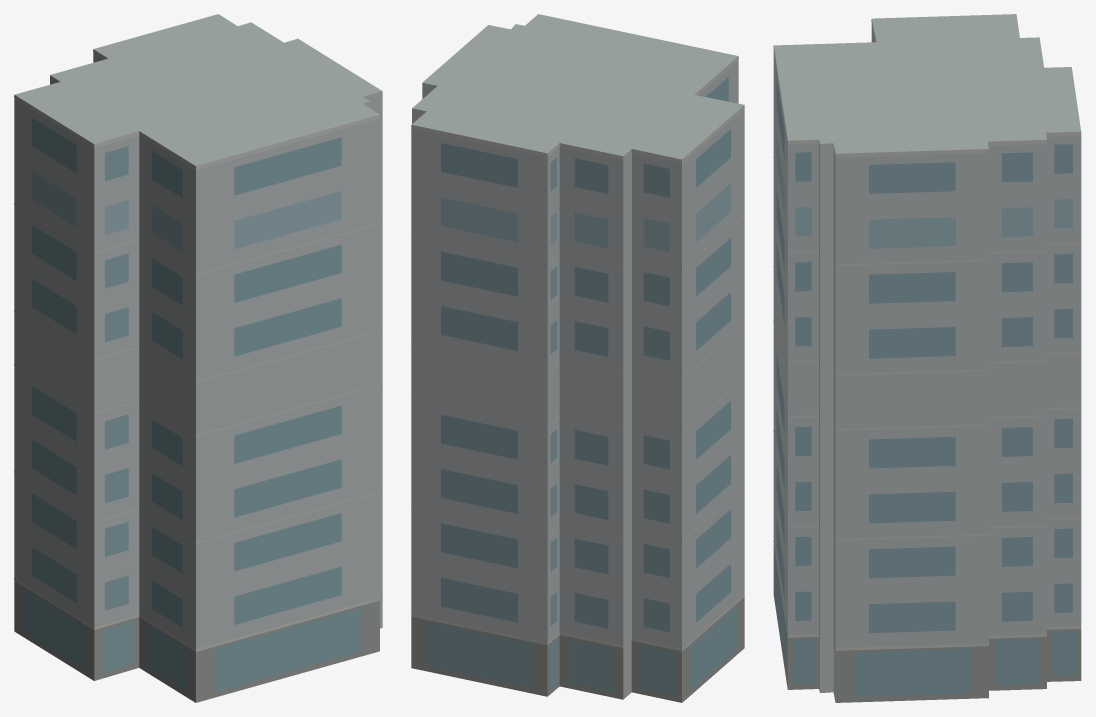
The model's file is survey-upis-32733487.glb.
3 views of the same model, side by side, from view 1: azimuth 30°, elevation 25°; view 2: azimuth 150°, elevation 25°; view 3: azimuth 270°, elevation 25° (orthographic). The views are drawn at different scales.
Parts seen in each view (by area): view 1: survey-upis-32733487.tmp; view 2: survey-upis-32733487.tmp; view 3: survey-upis-32733487.tmp.
Part boxes in pixels (left/top/right/bottom): survey-upis-32733487.tmp: left=14, top=14, right=382, bottom=702; survey-upis-32733487.tmp: left=411, top=14, right=744, bottom=702; survey-upis-32733487.tmp: left=773, top=14, right=1081, bottom=702.
Size of the model in its own units: 17.27 by 31.6 by 16.06.
